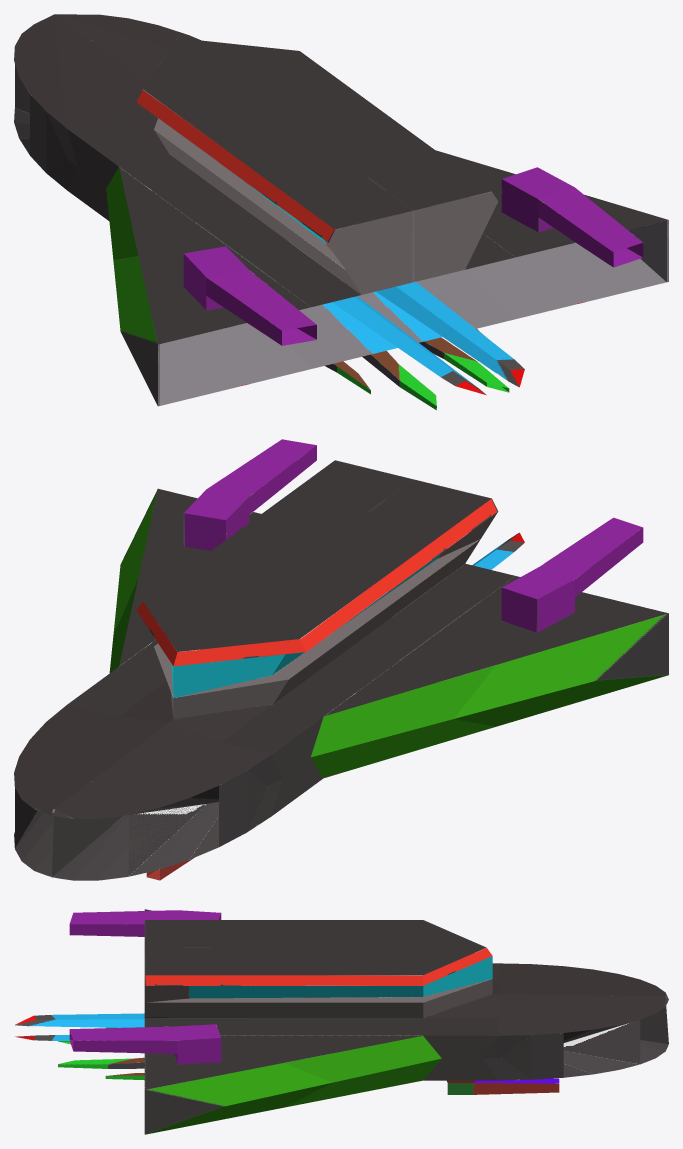
Rendered from Ship.fbx.
3 renders of one model, top to bottom at view 1: azimuth 30°, elevation 25°; view 2: azimuth 150°, elevation 25°; view 3: azimuth 270°, elevation 25°, orthographic. The views are drawn at different scales.
Parts seen in each view (by area): view 1: Cube; view 2: Cube; view 3: Cube.
Boxes of the visible parts, left/top/right/bottom form: Cube: left=14, top=14, right=668, bottom=410; Cube: left=14, top=439, right=668, bottom=880; Cube: left=14, top=909, right=668, bottom=1134.
Size of the model in its own units: 500 by 174 by 765.
